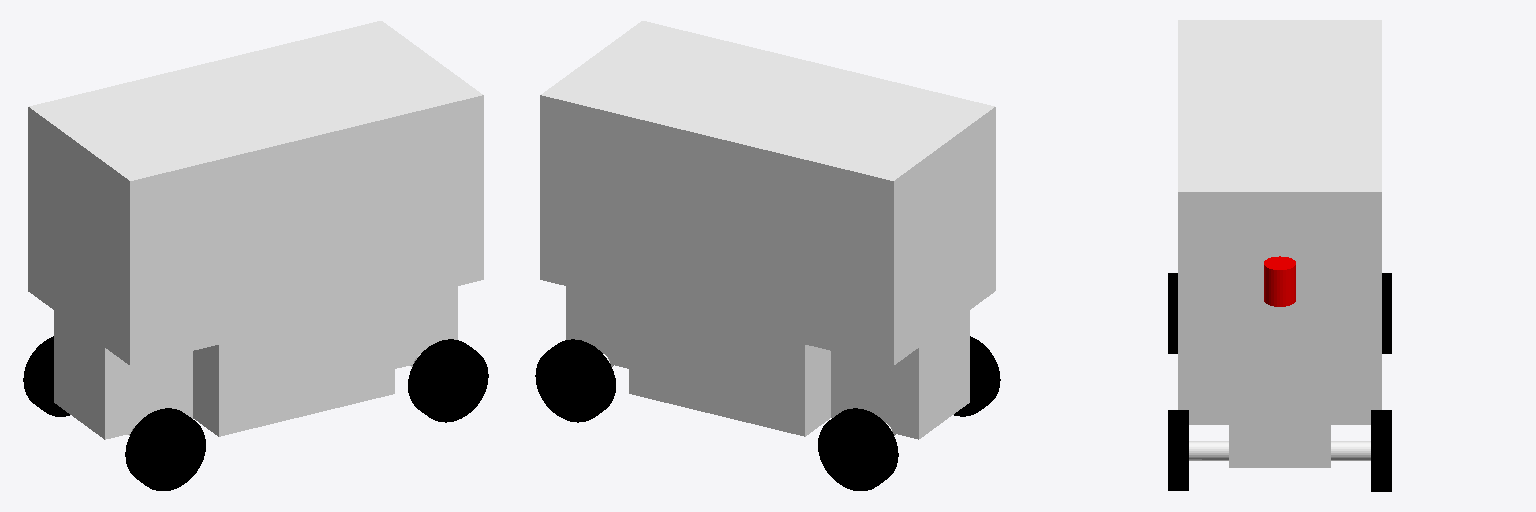
robot.urdf — robot:
<?xml version="1.0"?>
<robot name="robot">
    <property name="M_PI" value="3.14159"/>

    <link name="chassis_footprint"/>
    <link name="chassis_base">
        <collision name='collision'>
            <geometry>
                <box size="2 0.5 1.5"/>
            </geometry>
        </collision>

        <visual name='visual'>
            <geometry>
                <box size="2 0.5 1.5"/>
            </geometry>
            <material name="white">
                <color rgba="1 1 1 0.8"/>
            </material>
        </visual>
    </link>
    <joint name="chassis_footprint_joint" type="fixed">
        <parent link="chassis_footprint"/>
        <child link="chassis_base"/>
        <origin xyz="0 0 0.95" rpy="0 0 0"/>
    </joint>
    <link name="chassis_extension_1">
        <collision name='collision'>
            <geometry>
                <box size="1 1 1.5"/>
            </geometry>
        </collision>

        <visual name='visual'>
            <geometry>
                <box size="1 1 1.5"/>
            </geometry>
            <material name="white">
                <color rgba="1 1 1 0.8"/>
            </material>
        </visual>
    </link>
    <joint name="chassis_extension_joint_1" type="fixed">
        <parent link="chassis_base"/>
        <child link="chassis_extension_1"/>
    </joint>
    <link name="chassis_extension_2">
        <collision name='collision'>
            <geometry>
                <box size="2 1 1"/>
            </geometry>
        </collision>

        <visual name='visual'>
            <geometry>
                <box size="2 1 1"/>
            </geometry>
            <material name="white">
                <color rgba="1 1 1 0.8"/>
            </material>
        </visual>
    </link>
    <joint name="chassis_extension_joint_2" type="fixed">
        <parent link="chassis_base"/>
        <child link="chassis_extension_2"/>
        <origin xyz="0 0 0.25" rpy="0 0 0"/>
    </joint>
    <link name="front_axel">
        <collision name='collision'>
            <geometry>
                <cylinder length="1" radius="0.05"/>
            </geometry>
        </collision>

        <visual name='visual'>
            <geometry>
                <cylinder length="1" radius="0.05"/>
            </geometry>
            <material name="grey">
                <color rgba="1 1 1 1"/>
            </material>
        </visual>
    </link>
    <link name="rear_axel">
        <collision name='collision'>
            <geometry>
                <cylinder length="1" radius="0.05"/>
            </geometry>
        </collision>

        <visual name='visual'>
            <geometry>
                <cylinder length="1" radius="0.05"/>
            </geometry>
            <material name="grey">
                <color rgba="1 1 1 1"/>
            </material>
        </visual>
    </link>
    <joint name="front_axel_joint" type="continuous">
        <parent link="chassis_base"/>
        <child link="front_axel"/>
        <origin xyz="0.8 0 -0.75" rpy="1.570 0 0"/>
        <axis xyz="0 0 1"/>
    </joint>
    <joint name="rear_axel_joint" type="continuous">
        <parent link="chassis_base"/>
        <child link="rear_axel"/>
        <origin xyz="-0.8 0 -0.75" rpy="1.570 0 0"/>
        <axis xyz="0 0 1"/>
    </joint>
    <link name="steered_wheel_left">
        <collision name='collision'>
            <geometry>
                <cylinder length="0.1" radius="0.2"/>
            </geometry>
        </collision>

        <visual name='visual'>
            <geometry>
                <cylinder length="0.1" radius="0.2"/>
            </geometry>
            <material name="black">
                <color rgba="0 0 0 1"/>
            </material>
        </visual>
    </link>
    <joint name="steered_wheel_left_joint" type="continuous">
        <parent link="front_axel"/>
        <child link="steered_wheel_left"/>
        <origin xyz="0 0 0.5" rpy="0 0 1.570"/>
        <axis xyz="0 1 1"/>
    </joint>
    <link name="steered_wheel_right">
        <collision name='collision'>
            <geometry>
                <cylinder length="0.1" radius="0.2"/>
            </geometry>
        </collision>

        <visual name='visual'>
            <geometry>
                <cylinder length="0.1" radius="0.2"/>
            </geometry>
            <material name="black">
                <color rgba="0 0 0 1"/>
            </material>
        </visual>
    </link>
    <joint name="steered_wheel_right_joint" type="continuous">
        <parent link="front_axel"/>
        <child link="steered_wheel_right"/>
        <origin xyz="0 0 -0.5" rpy="0 0 1.570"/>
        <axis xyz="0 1 1"/>
    </joint>
    <link name="power_wheel_left">
        <collision name='collision'>
            <geometry>
                <cylinder length="0.1" radius="0.2"/>
            </geometry>
        </collision>

        <visual name='visual'>
            <geometry>
                <cylinder length="0.1" radius="0.2"/>
            </geometry>
            <material name="black">
                <color rgba="0 0 0 1"/>
            </material>
        </visual>
    </link>
    <joint name="power_wheel_left_joint" type="continuous">
        <parent link="rear_axel"/>
        <child link="power_wheel_left"/>
        <origin xyz="0 0 0.5" rpy="0 0 1.570"/>
        <axis xyz="0 1 1"/>
    </joint>
    <link name="power_wheel_right">
        <collision name='collision'>
            <geometry>
                <cylinder length="0.1" radius="0.2"/>
            </geometry>
        </collision>

        <visual name='visual'>
            <geometry>
                <cylinder length="0.1" radius="0.2"/>
            </geometry>
            <material name="black">
                <color rgba="0 0 0 1"/>
            </material>
        </visual>
    </link>
    <joint name="power_wheel_right_joint" type="continuous">
        <parent link="rear_axel"/>
        <child link="power_wheel_right"/>
        <origin xyz="0 0 -0.5" rpy="0 0 1.570"/>
        <axis xyz="0 1 1"/>
    </joint>
    <link name="laser_scanner">
        <collision name='collision'>
            <geometry>
                <cylinder length="0.2" radius="0.08"/>
            </geometry>
        </collision>

        <visual name='visual'>
            <geometry>
                <cylinder length="0.2" radius="0.08"/>
            </geometry>
            <material name="red">
                <color rgba="1 0 0 1"/>
            </material>
        </visual>
    </link>
    <joint name="laser_scanner_joint" type="fixed">
        <parent link="chassis_base"/>
        <child link="laser_scanner"/>
        <origin xyz="1.08 0 0.3" rpy="0 0 0"/>
        <axis xyz="0 0 0 "/>
    </joint>
</robot>

--- Facts derived from the render (not from the file) ---
The picture shows the robot from 3 angles, left to right: view 1: azimuth 30°, elevation 25°; view 2: azimuth 150°, elevation 25°; view 3: azimuth 270°, elevation 25°; orthographic projection.
Robot: robot — 11 links, 10 joints (6 continuous, 4 fixed); root link chassis_footprint; default pose: all joints at 0.
Visible links, largest first — view 1: chassis_extension_2, chassis_extension_1, chassis_base, steered_wheel_left, power_wheel_left, power_wheel_right; view 2: chassis_extension_2, chassis_extension_1, chassis_base, steered_wheel_right, power_wheel_right, power_wheel_left; view 3: chassis_extension_2, chassis_base, chassis_extension_1, steered_wheel_right, steered_wheel_left, front_axel, laser_scanner, power_wheel_left, power_wheel_right.
Link boxes in pixels (x1=…): chassis_extension_2: x1=28, y1=21, x2=483, y2=365; chassis_extension_1: x1=117, y1=42, x2=394, y2=436; chassis_base: x1=54, y1=39, x2=457, y2=439; steered_wheel_left: x1=408, y1=339, x2=488, y2=422; power_wheel_left: x1=125, y1=408, x2=205, y2=490; power_wheel_right: x1=23, y1=336, x2=69, y2=416; chassis_extension_2: x1=540, y1=21, x2=995, y2=365; chassis_extension_1: x1=629, y1=42, x2=893, y2=436; chassis_base: x1=566, y1=51, x2=969, y2=439; steered_wheel_right: x1=535, y1=339, x2=615, y2=422; power_wheel_right: x1=818, y1=408, x2=898, y2=490; power_wheel_left: x1=954, y1=336, x2=1000, y2=416; chassis_extension_2: x1=1178, y1=20, x2=1381, y2=375; chassis_base: x1=1229, y1=20, x2=1330, y2=467; chassis_extension_1: x1=1178, y1=63, x2=1381, y2=424; steered_wheel_right: x1=1371, y1=410, x2=1391, y2=491; steered_wheel_left: x1=1168, y1=410, x2=1188, y2=490; front_axel: x1=1189, y1=441, x2=1370, y2=460; laser_scanner: x1=1264, y1=256, x2=1295, y2=306; power_wheel_left: x1=1168, y1=273, x2=1177, y2=353; power_wheel_right: x1=1382, y1=273, x2=1391, y2=353.
Size in the robot's own frame: 2.16 by 1.1 by 1.7 metres.
Geometry: primitives only (box / cylinder / sphere), no mesh files.